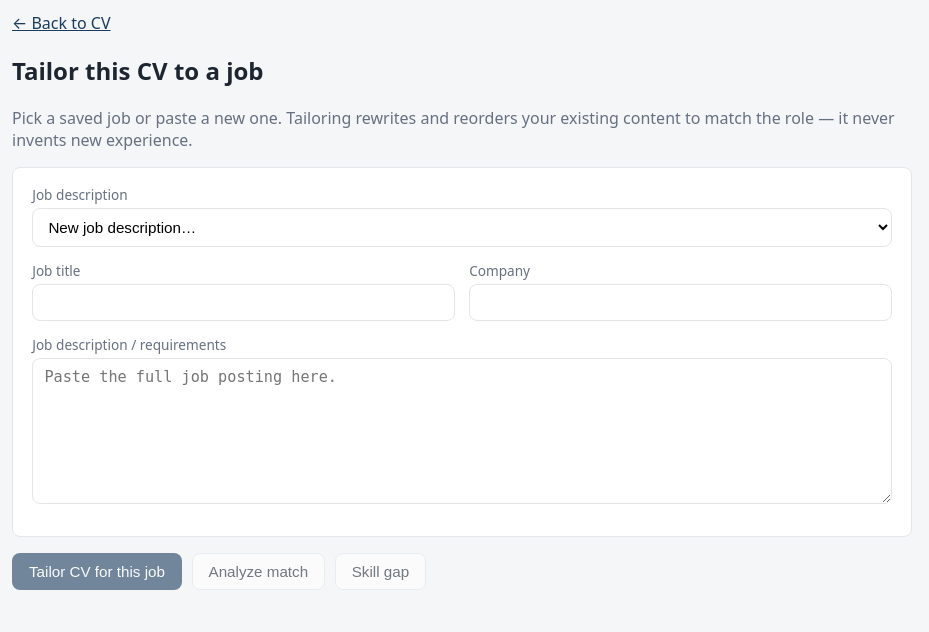
<CustomizeCV /> › analyzes the match for a saved job without creating one
The width and height of the screenshot is (929, 632).
Select "Backend Engineer — Acme" in the dropdown labelled "Job description" at (462, 228), box [32, 208, 892, 247]
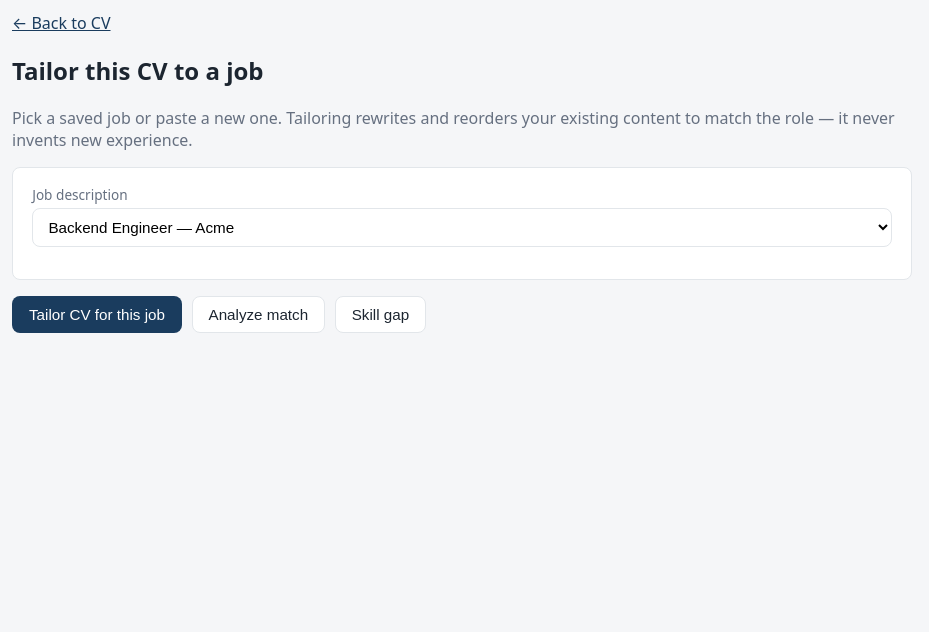
Click the button "Analyze match" at (258, 314), box [192, 296, 325, 333]
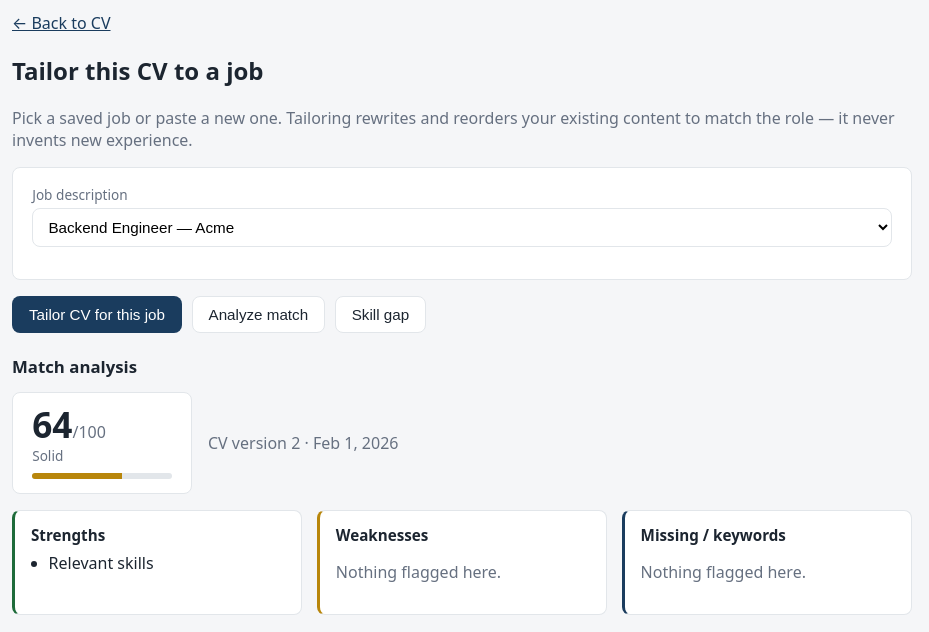
Check: the text "64" is shown, box [32, 400, 72, 448]
